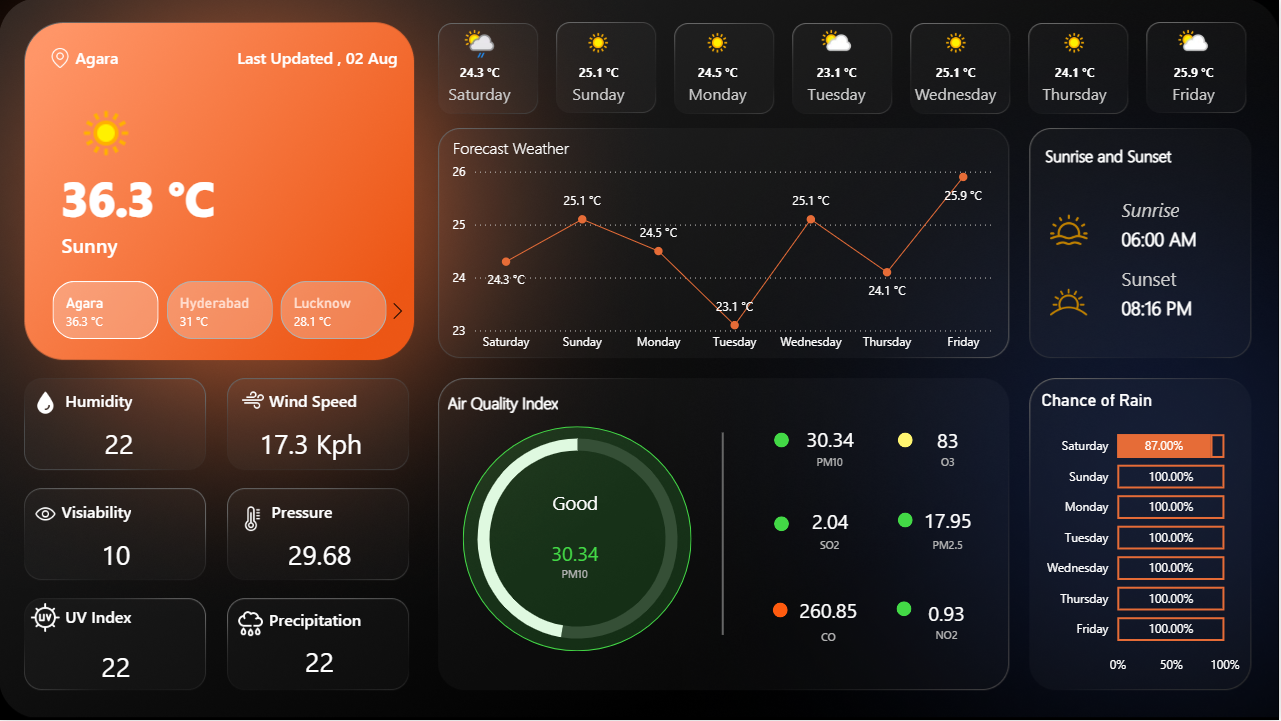

The page's visual inventory and layout, read from the dashboard file:
{"tool":"powerbi","page":{"name":"Page 1","canvas":[1280,720],"ordinal":0},"visuals":[{"type":"group","id":"g1","title":"Group 1","box":[448.8,406.3,260.1,265.1],"z":0},{"type":"shape","box":[463.8,426.3,228.8,225],"z":1000},{"type":"advancedSlicerVisual","fields":{"Values":["Locations.location.name"]},"box":[28.6,275.7,385.7,68.6],"z":2000},{"type":"shape","box":[62.9,160.3,167.1,74.3],"z":3000},{"type":"shape","box":[62.9,207.4,357.1,74.3],"z":4000},{"type":"shape","box":[75.7,38.6,194.3,37.1],"z":5000},{"type":"image","box":[45.7,40,30,35.7],"z":6000},{"type":"cardVisual","fields":{"Data":["_Measures.Last_Update_Date_Curr"]},"box":[221.4,21.4,217.1,54.3],"z":7000},{"type":"cardVisual","fields":{"Data":["Min(current.current.condition.icon)"]},"box":[45.7,75.7,100,102.9],"z":8000},{"type":"image","box":[30,385.7,32.9,32.9],"z":9000},{"type":"image","box":[237.1,381.4,32.9,37.1],"z":10000},{"type":"image","box":[30,497.1,32.9,32.9],"z":11000},{"type":"image","box":[235.7,497.1,34.3,42.9],"z":12000},{"type":"image","box":[25.7,597.1,40,40],"z":13000},{"type":"image","box":[230,604.3,42.9,40],"z":14000},{"type":"shape","box":[65.7,381.4,132.9,37.1],"z":15000},{"type":"shape","box":[62.9,492.9,132.9,37.1],"z":16000},{"type":"shape","box":[65.7,597.1,132.9,37.1],"z":17000},{"type":"shape","box":[270,381.4,132.9,37.1],"z":18000},{"type":"shape","box":[272.9,492.9,132.9,37.1],"z":19000},{"type":"shape","box":[270,600,132.9,37.1],"z":20000},{"type":"cardVisual","fields":{"Data":["Sum(current.current.humidity)"]},"box":[30,400,180,67.1],"z":21000},{"type":"cardVisual","fields":{"Data":["_Measures.Wind_Speed"]},"box":[221.4,400,181.4,67.1],"z":22000},{"type":"cardVisual","fields":{"Data":["Sum(current.current.pressure_in)"]},"box":[230,511.4,181.4,67.1],"z":23000},{"type":"cardVisual","fields":{"Data":["Sum(current.current.vis_km)"]},"box":[25.7,511.4,181.4,67.1],"z":24000},{"type":"cardVisual","fields":{"Data":["Sum(current.current.humidity)"]},"box":[25.7,624.3,181.4,67.1],"z":25000},{"type":"cardVisual","fields":{"Data":["Sum(current.current.humidity)"]},"box":[230,618.6,181.4,67.1],"z":26000},{"type":"advancedSlicerVisual","fields":{"Values":["forecast_day.Day_Name"]},"box":[419.8,18.6,838.4,103.5],"z":27000},{"type":"lineChart","title":"Forecast Weather","fields":{"Y":["Sum(forecast_day.forecast.forecastday.day.avgtemp_c)"],"Category":["forecast_day.Day_Name"]},"box":[448.8,136,551.2,224.4],"z":28000},{"type":"shape","box":[1046.5,136,155.8,37.2],"z":29000},{"type":"shape","box":[1122.6,205.6,107,66.3],"z":30000},{"type":"shape","box":[1122.6,274.2,107,66.3],"z":31000},{"type":"shape","box":[1122.1,176.7,107,66.3],"z":32000},{"type":"shape","box":[1122.6,245.1,107,66.3],"z":33000},{"type":"image","box":[1039.5,272.1,59.3,59.3],"z":34000},{"type":"image","box":[1046.5,205.8,47.7,47.7],"z":35000},{"type":"hundredPercentStackedBarChart","title":"Chance of Rain","fields":{"Category":["forecast_day.Day_Name"],"Y":["Sum(forecast_day.forecast.forecastday.day.daily_chance_of_rain)","_Measures.Left_Value"]},"box":[1037.2,389.5,208.1,293],"z":36000},{"type":"cardVisual","fields":{"Data":["Sum(current.current.air_quality.o3)"]},"box":[906.2,400.1,85,71.3],"z":37000},{"type":"shape","box":[448.8,383.7,155.8,37.2],"z":38000},{"type":"cardVisual","fields":{"Data":["Sum(current.current.air_quality.pm2_5)"]},"box":[906.2,479.6,85,71.3],"z":39000},{"type":"cardVisual","fields":{"Data":["Sum(current.current.air_quality.no2)"]},"box":[905.2,573.6,85,70],"z":40000},{"type":"cardVisual","fields":{"Data":["Sum(current.current.air_quality.co)"]},"box":[781.9,571.8,96.5,70.9],"z":41000},{"type":"cardVisual","fields":{"Data":["Sum(current.current.air_quality.so2)"]},"box":[788.7,480.8,85,71.3],"z":42000},{"type":"cardVisual","title":"pm10","fields":{"Data":["Sum(current.current.air_quality.pm10)"]},"box":[788.6,398.8,85,71.3],"z":43000},{"type":"shape","box":[797.4,442.6,66.3,37.5],"z":44000},{"type":"shape","box":[914.9,442.6,67.5,37.5],"z":45000},{"type":"shape","box":[914.9,525.9,67.5,37.5],"z":46000},{"type":"shape","box":[913.9,616.1,67.5,37.5],"z":47000},{"type":"shape","box":[796.4,617.4,66.3,37.5],"z":48000},{"type":"shape","box":[797.4,525.9,66.3,37.5],"z":49000},{"type":"shape","box":[774.9,432.6,15,15],"z":50000},{"type":"shape","box":[898.7,432.6,15,15],"z":51000},{"type":"shape","box":[898.7,512.1,15,15],"z":52000},{"type":"shape","box":[897.7,601.1,15,15],"z":53000},{"type":"donutChart","fields":{"Y":["_Measures.Maxvalue","_Measures.Left_Value_Aqi"]},"box":[448.8,406.3,260.1,265.1],"z":54000,"group":"g1"},{"type":"shape","box":[773.9,602.4,15,15],"z":54000},{"type":"cardVisual","fields":{"Data":["Sum(current.current.air_quality.pm10)"]},"box":[527.6,490.1,97.5,86.3],"z":55000},{"type":"shape","box":[774.9,515.9,15,15],"z":55000},{"type":"shape","box":[697.6,432.6,52.5,202.5],"z":56000},{"type":"shape","box":[542.6,555.1,66.3,37.5],"z":56000}]}

Visuals, with their boxes in screenshot pixels (x1, y1, x2, y2), scaled from the page's 1280x720 canvas onto the 1281x721 screenshot:
"Group 1" group: box=[449, 407, 709, 672]
shape: box=[464, 427, 693, 652]
advancedSlicerVisual - Locations.location.name: box=[29, 276, 415, 345]
shape: box=[63, 161, 230, 235]
shape: box=[63, 208, 420, 282]
shape: box=[76, 39, 270, 76]
image: box=[46, 40, 76, 76]
cardVisual - _Measures.Last_Update_Date_Curr: box=[222, 21, 439, 76]
cardVisual - Min(current.current.condition.icon): box=[46, 76, 146, 179]
image: box=[30, 386, 63, 419]
image: box=[237, 382, 270, 419]
image: box=[30, 498, 63, 531]
image: box=[236, 498, 270, 541]
image: box=[26, 598, 66, 638]
image: box=[230, 605, 273, 645]
shape: box=[66, 382, 199, 419]
shape: box=[63, 494, 196, 531]
shape: box=[66, 598, 199, 635]
shape: box=[270, 382, 403, 419]
shape: box=[273, 494, 406, 531]
shape: box=[270, 601, 403, 638]
cardVisual - Sum(current.current.humidity): box=[30, 401, 210, 468]
cardVisual - _Measures.Wind_Speed: box=[222, 401, 403, 468]
cardVisual - Sum(current.current.pressure_in): box=[230, 512, 412, 579]
cardVisual - Sum(current.current.vis_km): box=[26, 512, 207, 579]
cardVisual - Sum(current.current.humidity): box=[26, 625, 207, 692]
cardVisual - Sum(current.current.humidity): box=[230, 619, 412, 687]
advancedSlicerVisual - forecast_day.Day_Name: box=[420, 19, 1259, 122]
"Forecast Weather" lineChart: box=[449, 136, 1001, 361]
shape: box=[1047, 136, 1203, 173]
shape: box=[1123, 206, 1231, 272]
shape: box=[1123, 275, 1231, 341]
shape: box=[1123, 177, 1230, 243]
shape: box=[1123, 245, 1231, 312]
image: box=[1040, 272, 1100, 332]
image: box=[1047, 206, 1095, 254]
"Chance of Rain" hundredPercentStackedBarChart: box=[1038, 390, 1246, 683]
cardVisual - Sum(current.current.air_quality.o3): box=[907, 401, 992, 472]
shape: box=[449, 384, 605, 421]
cardVisual - Sum(current.current.air_quality.pm2_5): box=[907, 480, 992, 552]
cardVisual - Sum(current.current.air_quality.no2): box=[906, 574, 991, 644]
cardVisual - Sum(current.current.air_quality.co): box=[783, 573, 879, 644]
cardVisual - Sum(current.current.air_quality.so2): box=[789, 481, 874, 553]
"pm10" cardVisual: box=[789, 399, 874, 471]
shape: box=[798, 443, 864, 481]
shape: box=[916, 443, 983, 481]
shape: box=[916, 527, 983, 564]
shape: box=[915, 617, 982, 655]
shape: box=[797, 618, 863, 656]
shape: box=[798, 527, 864, 564]
shape: box=[776, 433, 791, 448]
shape: box=[899, 433, 914, 448]
shape: box=[899, 513, 914, 528]
shape: box=[898, 602, 913, 617]
donutChart - _Measures.Maxvalue x _Measures.Left_Value_Aqi: box=[449, 407, 709, 672]
shape: box=[775, 603, 790, 618]
cardVisual - Sum(current.current.air_quality.pm10): box=[528, 491, 626, 577]
shape: box=[776, 517, 791, 532]
shape: box=[698, 433, 751, 636]
shape: box=[543, 556, 609, 593]
